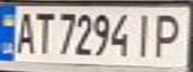2: (72, 9, 93, 57)
4: (109, 9, 136, 58)
7: (54, 8, 75, 56)
9: (90, 10, 115, 57)
A: (9, 8, 39, 55)
I: (130, 10, 160, 58)
P: (148, 9, 187, 60)
T: (30, 8, 57, 55)
